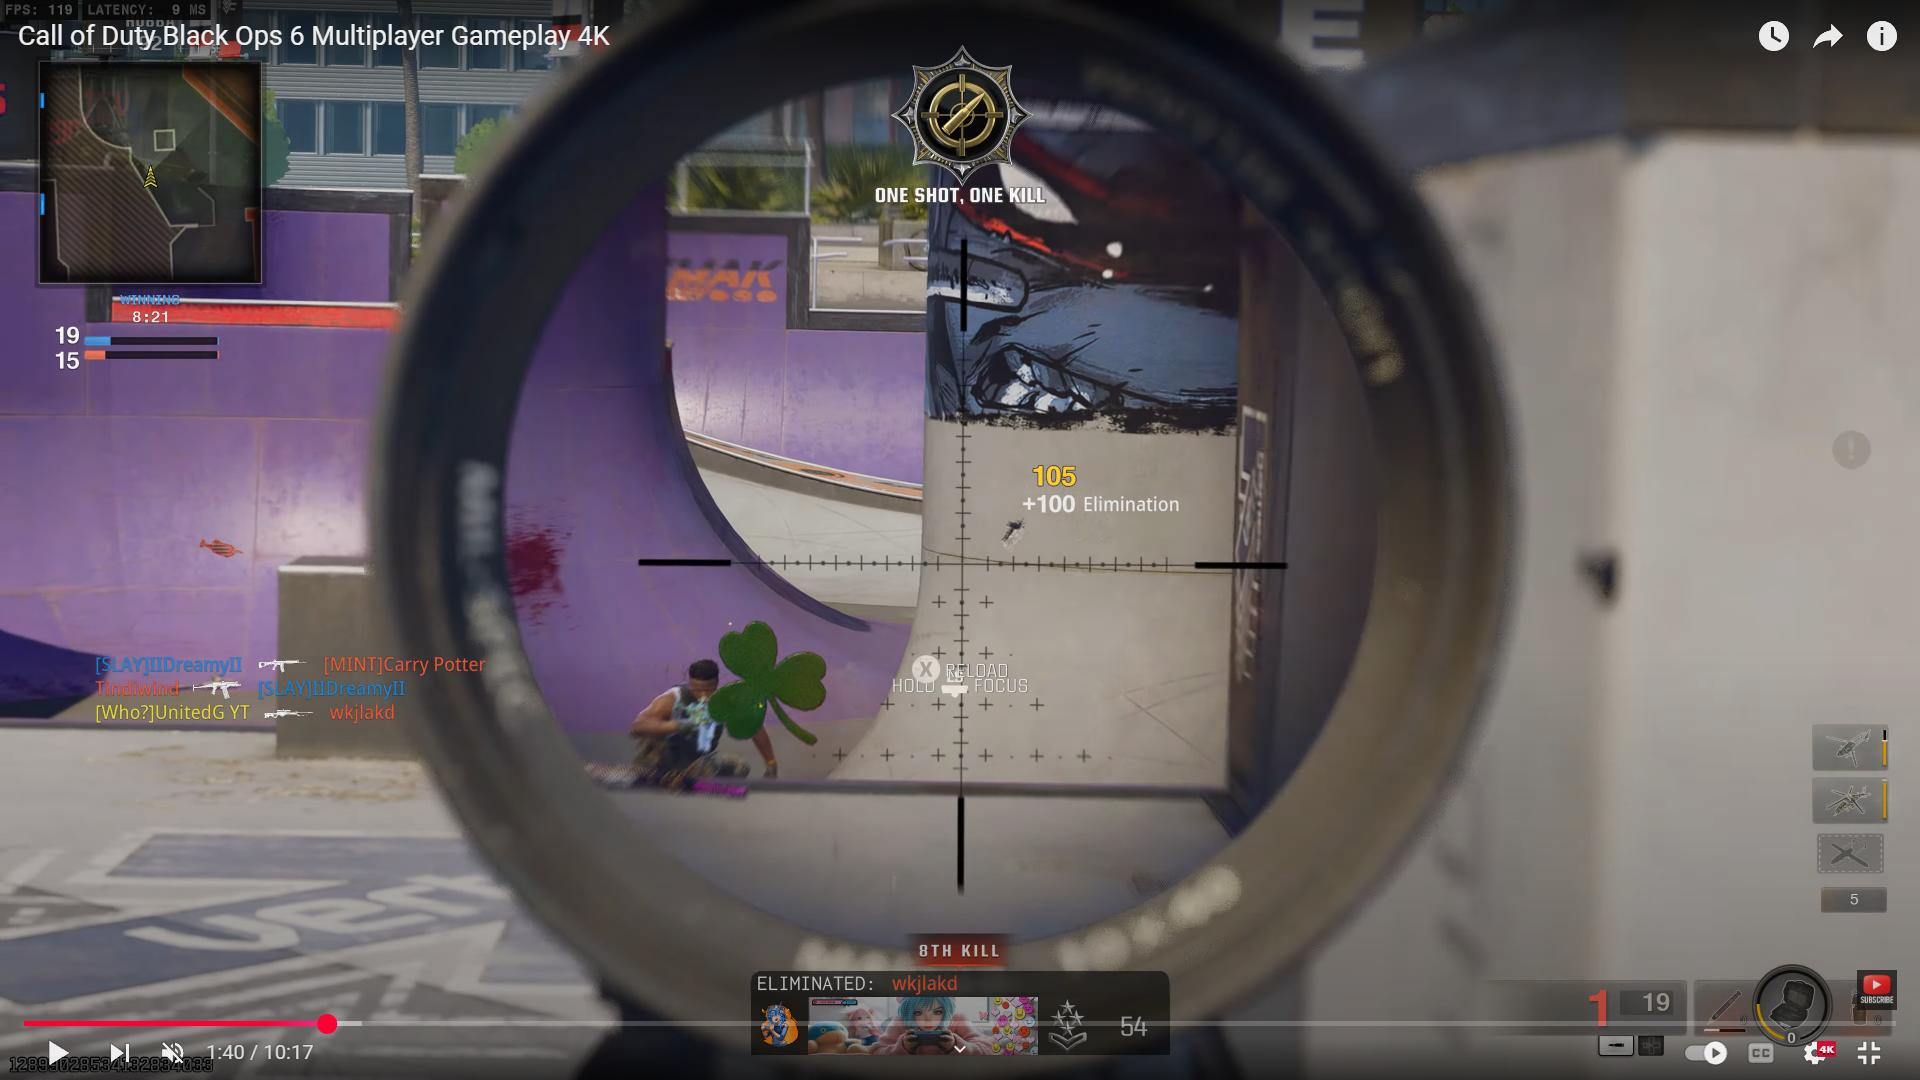Enemy: (630, 650, 716, 778)
